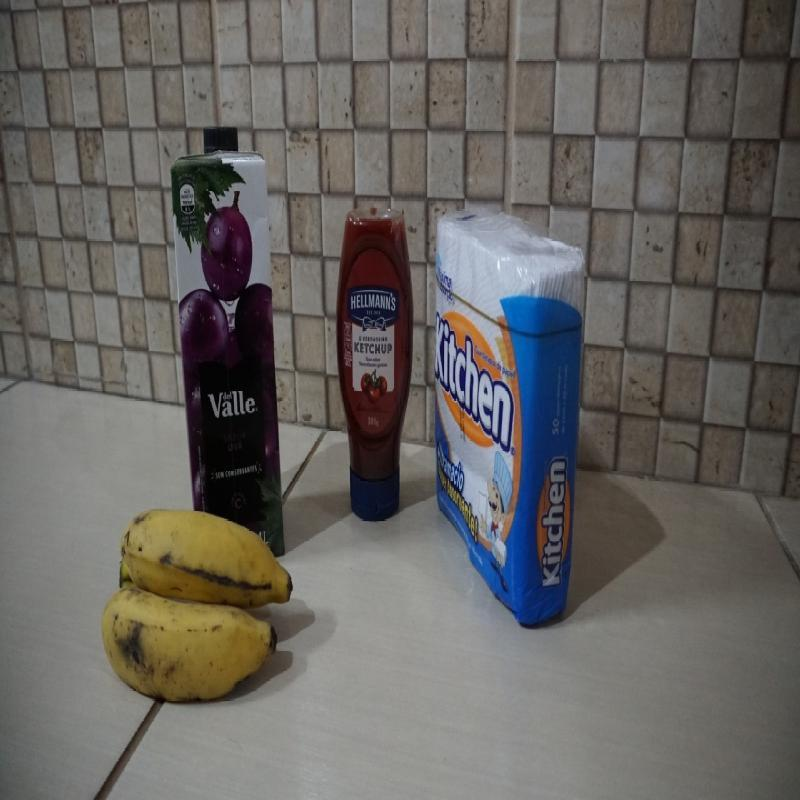Banana: (101, 508, 296, 704)
Ketchup: (336, 206, 414, 522)
Napkin: (433, 204, 587, 628)
